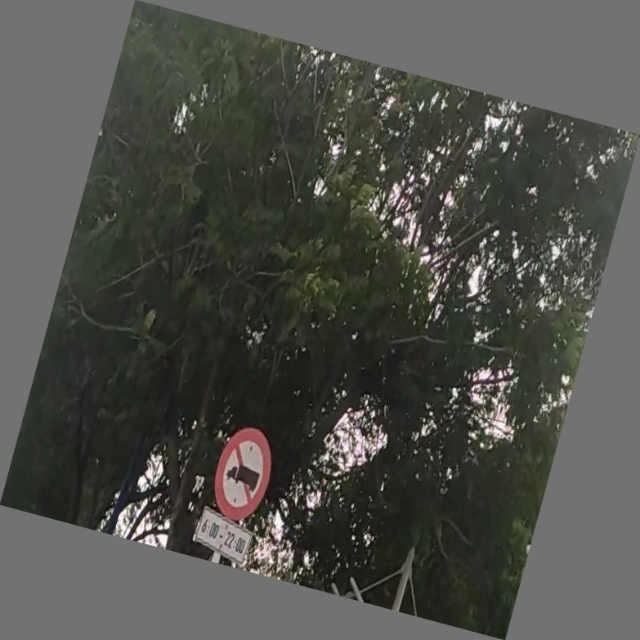B.8a: (194, 424, 278, 558)
